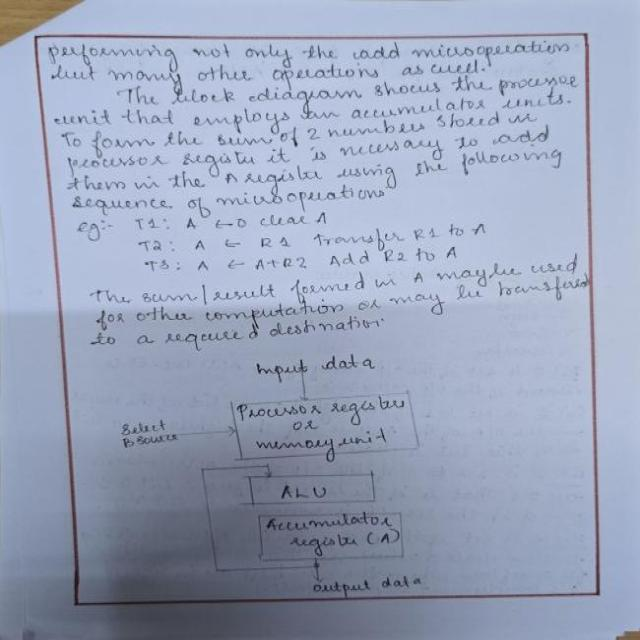Figure Detection - v3 Dataset Version2: (111, 348, 463, 602)
